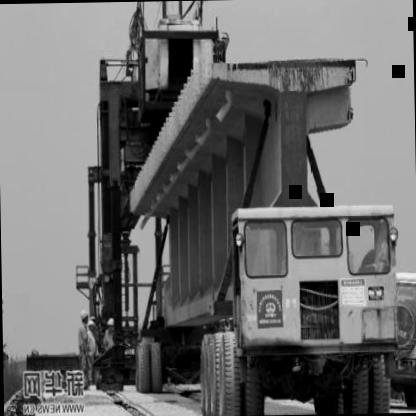helmet: (106, 312, 116, 336), (78, 307, 89, 327)
